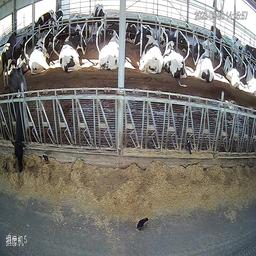cow: (7, 66, 29, 171), (132, 29, 162, 75), (58, 32, 87, 72), (163, 40, 189, 83), (2, 30, 19, 89), (191, 41, 214, 82), (96, 30, 119, 69), (28, 37, 52, 72), (224, 52, 240, 90), (93, 2, 106, 43), (32, 9, 52, 34), (244, 59, 256, 100), (49, 6, 64, 38), (210, 25, 224, 54), (230, 34, 243, 59), (174, 31, 188, 54), (125, 19, 136, 44), (246, 39, 255, 63), (160, 28, 170, 49)
